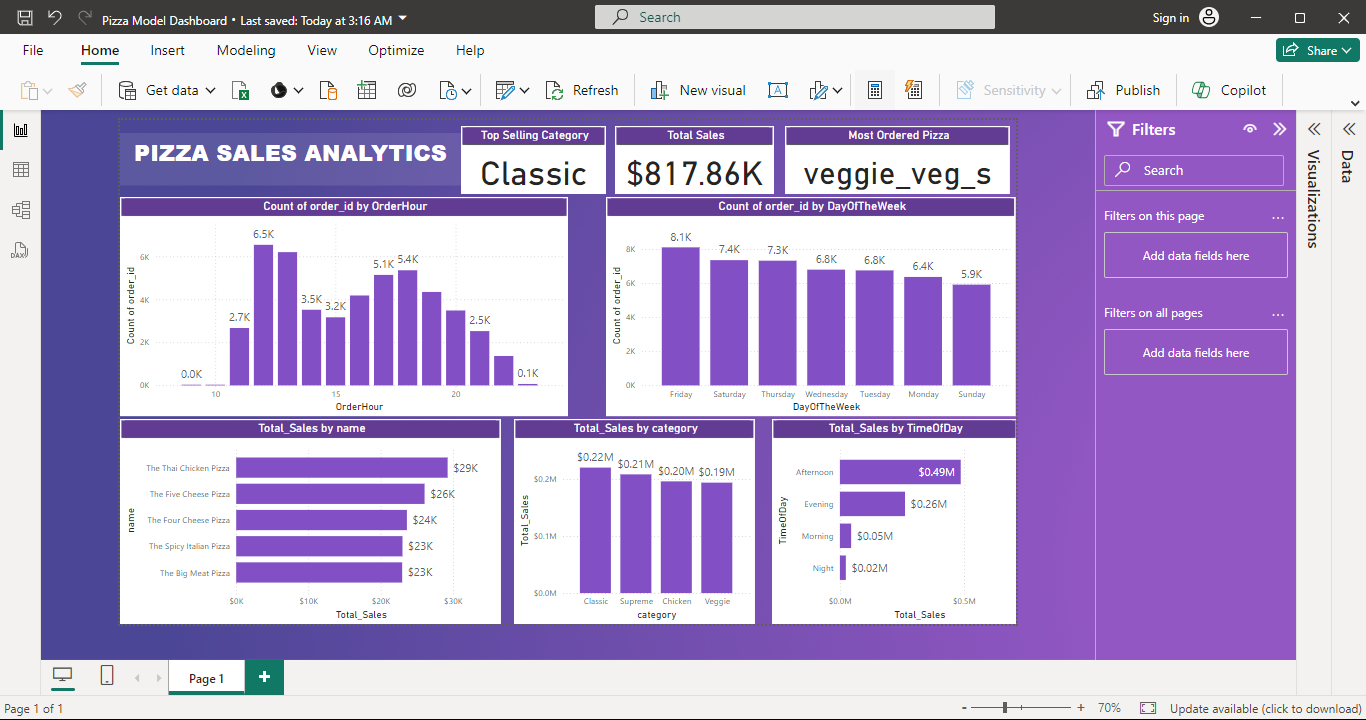

What the dashboard file says about the page in this screenshot:
{"tool":"powerbi","page":{"name":"Dashboard","canvas":[1280,720],"ordinal":0},"visuals":[{"type":"columnChart","fields":{"Category":["Orders.OrderHour"],"Y":["CountNonNull(Order_details.order_id)"]},"box":[0,110.6,639.5,313.2],"z":0},{"type":"card","title":"Total Sales","fields":{"Values":["Order_details.Total_Sales"]},"box":[706.7,8,227.2,97],"z":1000},{"type":"card","title":"Most Ordered Pizza","fields":{"Values":["Order_details.MostOrderedPizza"]},"box":[949.8,8,321.5,97],"z":2000},{"type":"barChart","fields":{"Category":["Pizza_types.name"],"Y":["Order_details.Total_Sales"]},"box":[0,427.3,544.4,292.7],"z":3000},{"type":"barChart","fields":{"Y":["Order_details.Total_Sales"],"Category":["Orders.TimeOfDay"]},"box":[930.7,427.3,349.8,292.7],"z":4000},{"type":"columnChart","fields":{"Y":["Order_details.Total_Sales"],"Category":["Pizza_types.category"]},"box":[563.4,427.3,343.9,292.7],"z":5000},{"type":"columnChart","fields":{"Category":["Orders.DayOfTheWeek"],"Y":["CountNonNull(Order_details.order_id)"]},"box":[694.6,110.6,585.4,313.2],"z":6000},{"type":"card","title":"Top Selling Category","fields":{"Values":["Order_details.TopSellingCategory"]},"box":[487.5,8,207.2,97],"z":7000},{"type":"textbox","box":[0,19,487.3,74.6],"z":8000}]}

Visuals, with their boxes on the page's 1280x720 design canvas (x1, y1, x2, y2). These are canvas units, not pixel positions in the 1366x720 screenshot, which may show the page scaled, cropped or inside an application window:
columnChart - Orders.OrderHour x CountNonNull(Order_details.order_id): x1=0, y1=111, x2=640, y2=424
"Total Sales" card: x1=707, y1=8, x2=934, y2=105
"Most Ordered Pizza" card: x1=950, y1=8, x2=1271, y2=105
barChart - Pizza_types.name x Order_details.Total_Sales: x1=0, y1=427, x2=544, y2=720
barChart - Order_details.Total_Sales x Orders.TimeOfDay: x1=931, y1=427, x2=1280, y2=720
columnChart - Order_details.Total_Sales x Pizza_types.category: x1=563, y1=427, x2=907, y2=720
columnChart - Orders.DayOfTheWeek x CountNonNull(Order_details.order_id): x1=695, y1=111, x2=1280, y2=424
"Top Selling Category" card: x1=488, y1=8, x2=695, y2=105
textbox: x1=0, y1=19, x2=487, y2=94
